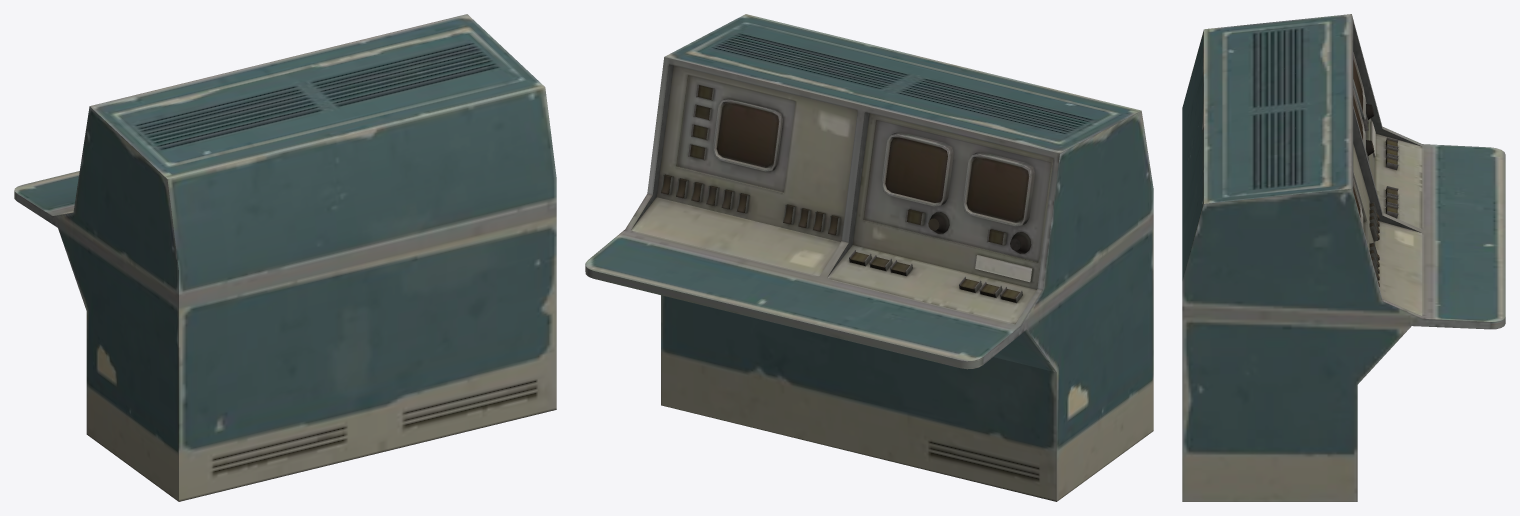
3 renders of one model, left to right at view 1: azimuth 30°, elevation 25°; view 2: azimuth 150°, elevation 25°; view 3: azimuth 270°, elevation 25°, orthographic. The views are drawn at different scales.
Visible parts, largest first — view 1: body0_model0_lod0_mesh0; view 2: body0_model0_lod0_mesh0; view 3: body0_model0_lod0_mesh0.
Boxes of the visible parts, x1,y1,x2,y2 form: body0_model0_lod0_mesh0: [14, 14, 556, 501]; body0_model0_lod0_mesh0: [585, 14, 1153, 501]; body0_model0_lod0_mesh0: [1182, 14, 1505, 501].
Bounding box in the file's own units: 80 × 66.86 × 62.51.
1 material, 1 textured.
